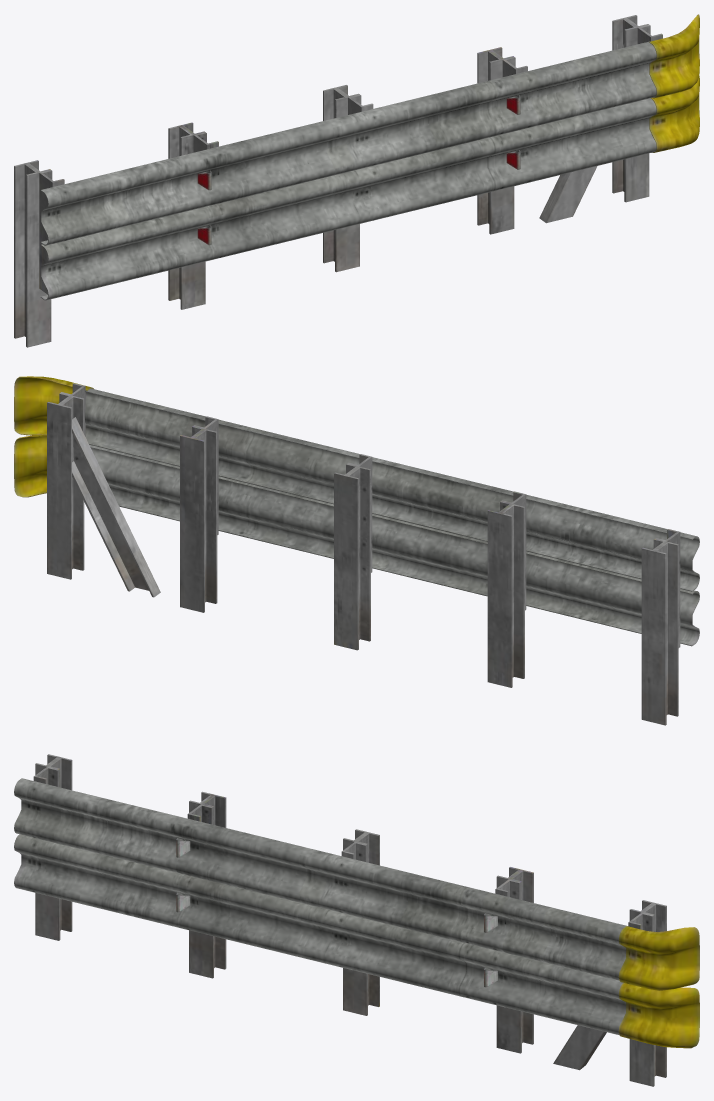
File: guardrail_and_terminal.glb
3 views of the same model, one above another, from view 1: azimuth 30°, elevation 25°; view 2: azimuth 150°, elevation 25°; view 3: azimuth 330°, elevation 25° (orthographic).
Visible parts, largest first — view 1: guardrail_and_terminal.001; view 2: guardrail_and_terminal.001; view 3: guardrail_and_terminal.001.
Boxes of the visible parts, x1,y1,x2,y2 form: guardrail_and_terminal.001: (14, 14, 699, 347); guardrail_and_terminal.001: (14, 376, 699, 725); guardrail_and_terminal.001: (14, 754, 699, 1086).
Size of the model in its own units: 4.34 by 1.09 by 0.3979.
Materials: 1 (1 with a texture image).
